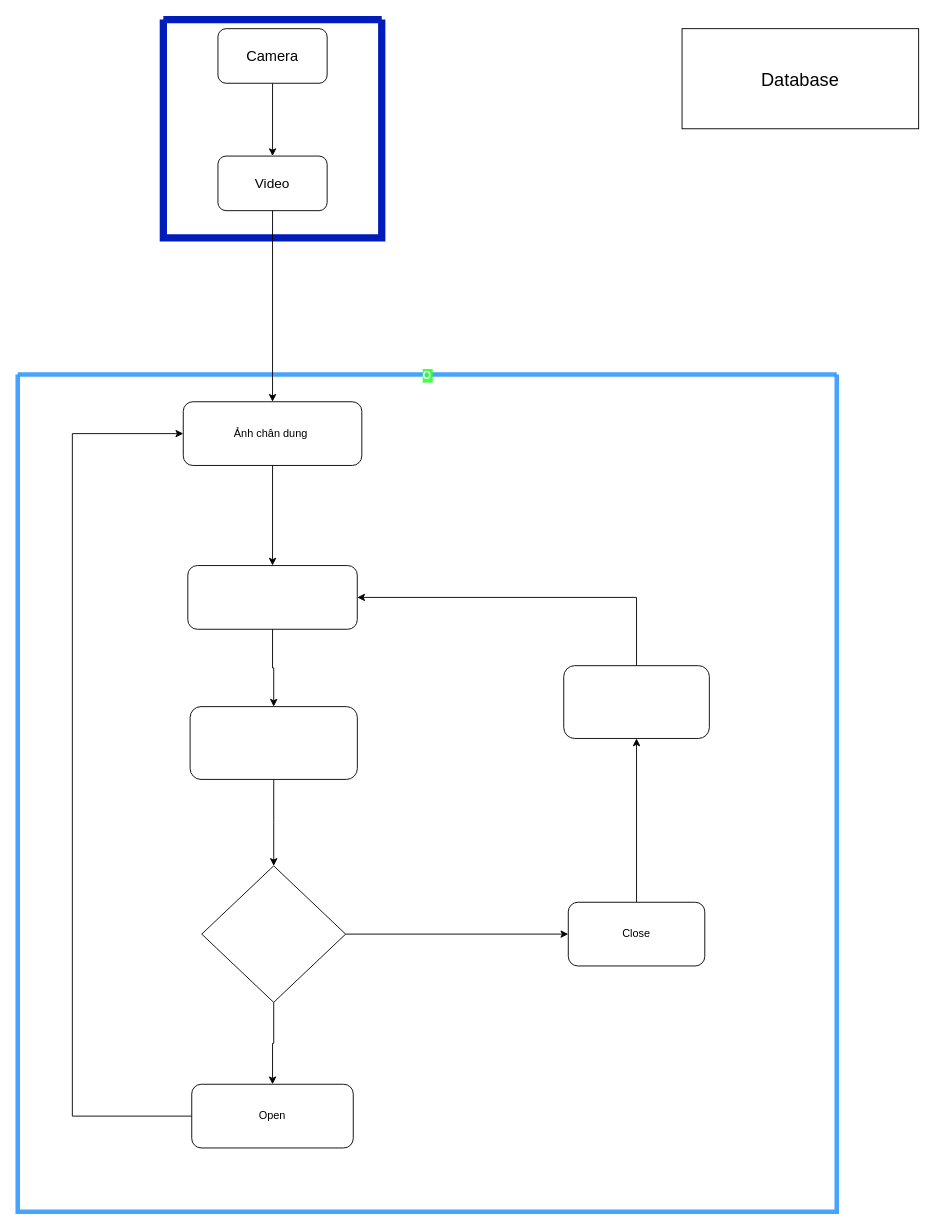
The diagram is 935 pixels wide and 1229 high, and some of its shapes have lost their labels. The shapes that lost their labels are listed below. From the top down, each one's box as (x1, y1, x2, y2) in pixels, then its label:
(187, 565, 357, 629): Vị trí khuôn mặt
(563, 665, 709, 738): Warning
(189, 706, 357, 779): Vị trí con mắt
(201, 865, 346, 1002): Cropped image
